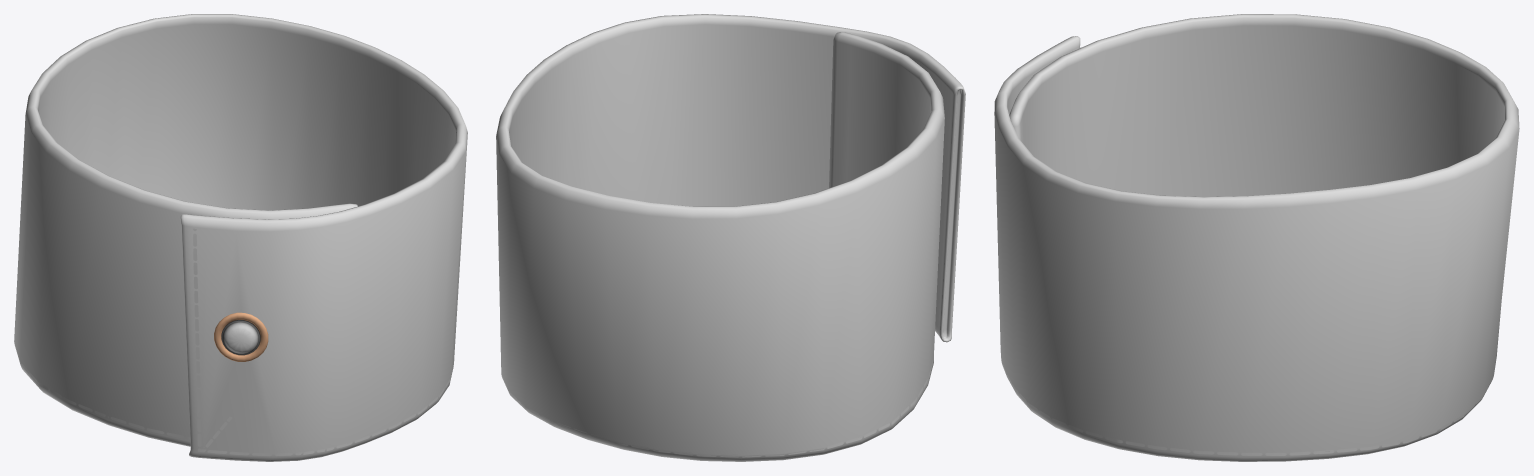
The model's file is cuff.glb.
The picture shows the model from 3 angles, left to right: view 1: azimuth 30°, elevation 25°; view 2: azimuth 150°, elevation 25°; view 3: azimuth 270°, elevation 25°; orthographic projection. The views are drawn at different scales.
Parts seen in each view (by area): view 1: Cylinder.376, Cylinder.377, 8 9 24.012; view 2: Cylinder.376, Cylinder.377; view 3: Cylinder.376, Cylinder.377.
Part boxes in pixels (x1,y1,x2,y2): Cylinder.376: [14, 14, 467, 461]; Cylinder.377: [14, 228, 453, 456]; 8 9 24.012: [214, 312, 268, 361]; Cylinder.376: [496, 14, 965, 461]; Cylinder.377: [501, 356, 933, 457]; Cylinder.376: [994, 14, 1519, 461]; Cylinder.377: [1000, 352, 1496, 455].
Bounding box in the file's own units: 0.1306 × 0.0872 × 0.151.
3 materials, 2 textured.
